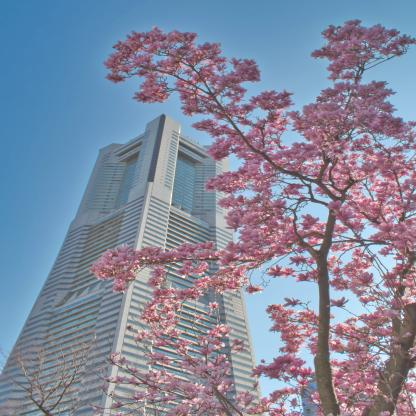Mokuren: (86, 20, 416, 416)
